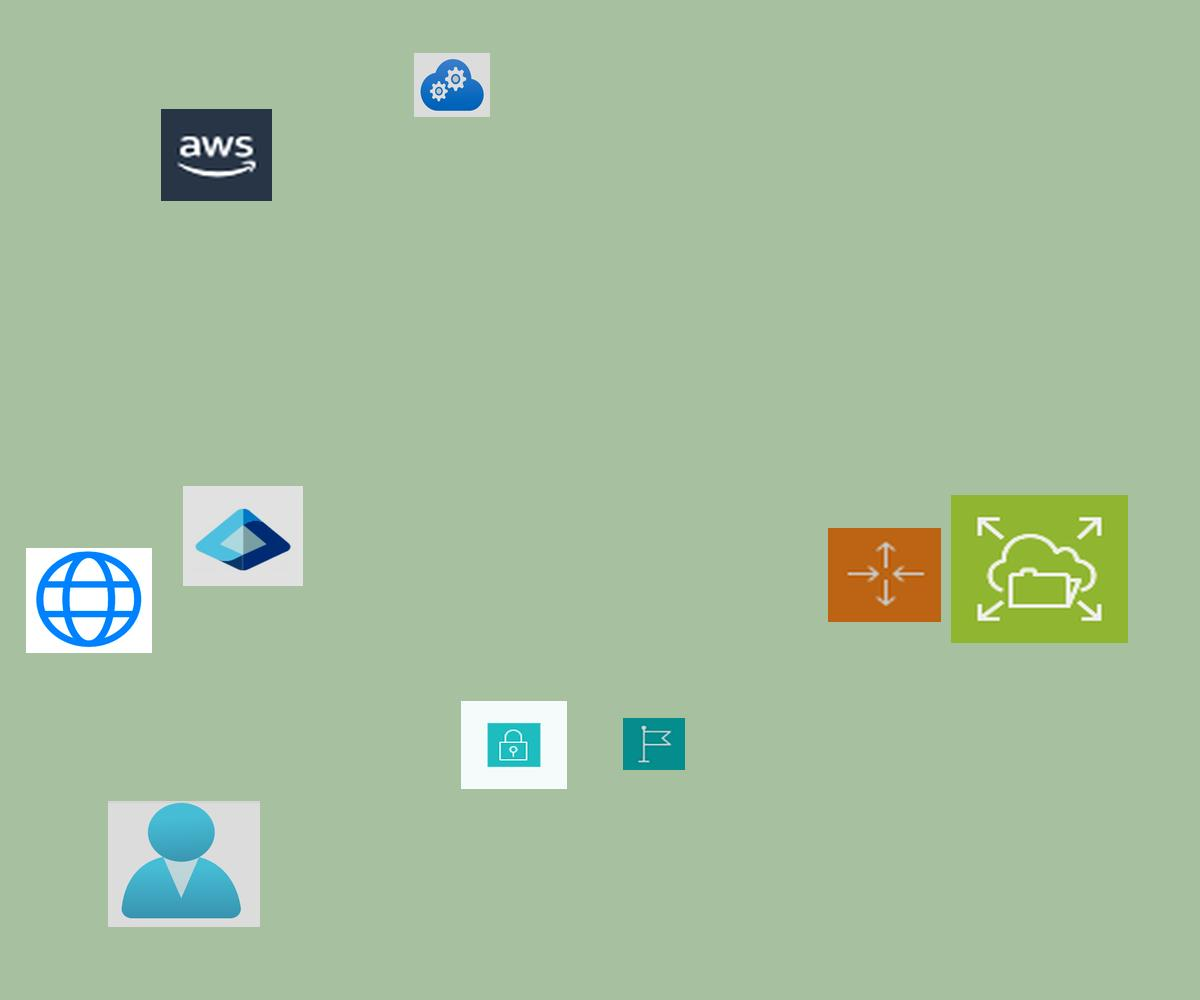AWS-Cloud-logo: (161, 109, 272, 201)
AWS-EFS: (951, 495, 1128, 643)
AWS-Private-subnet: (461, 701, 567, 789)
AWS-Region: (623, 718, 685, 770)
AWS-Scaling-group: (828, 528, 941, 622)
Azure_cloud_services: (414, 53, 490, 117)
Azure_http: (26, 548, 152, 653)
Azure_microsoft_entra: (183, 486, 303, 586)
Azure_users: (108, 801, 260, 927)
